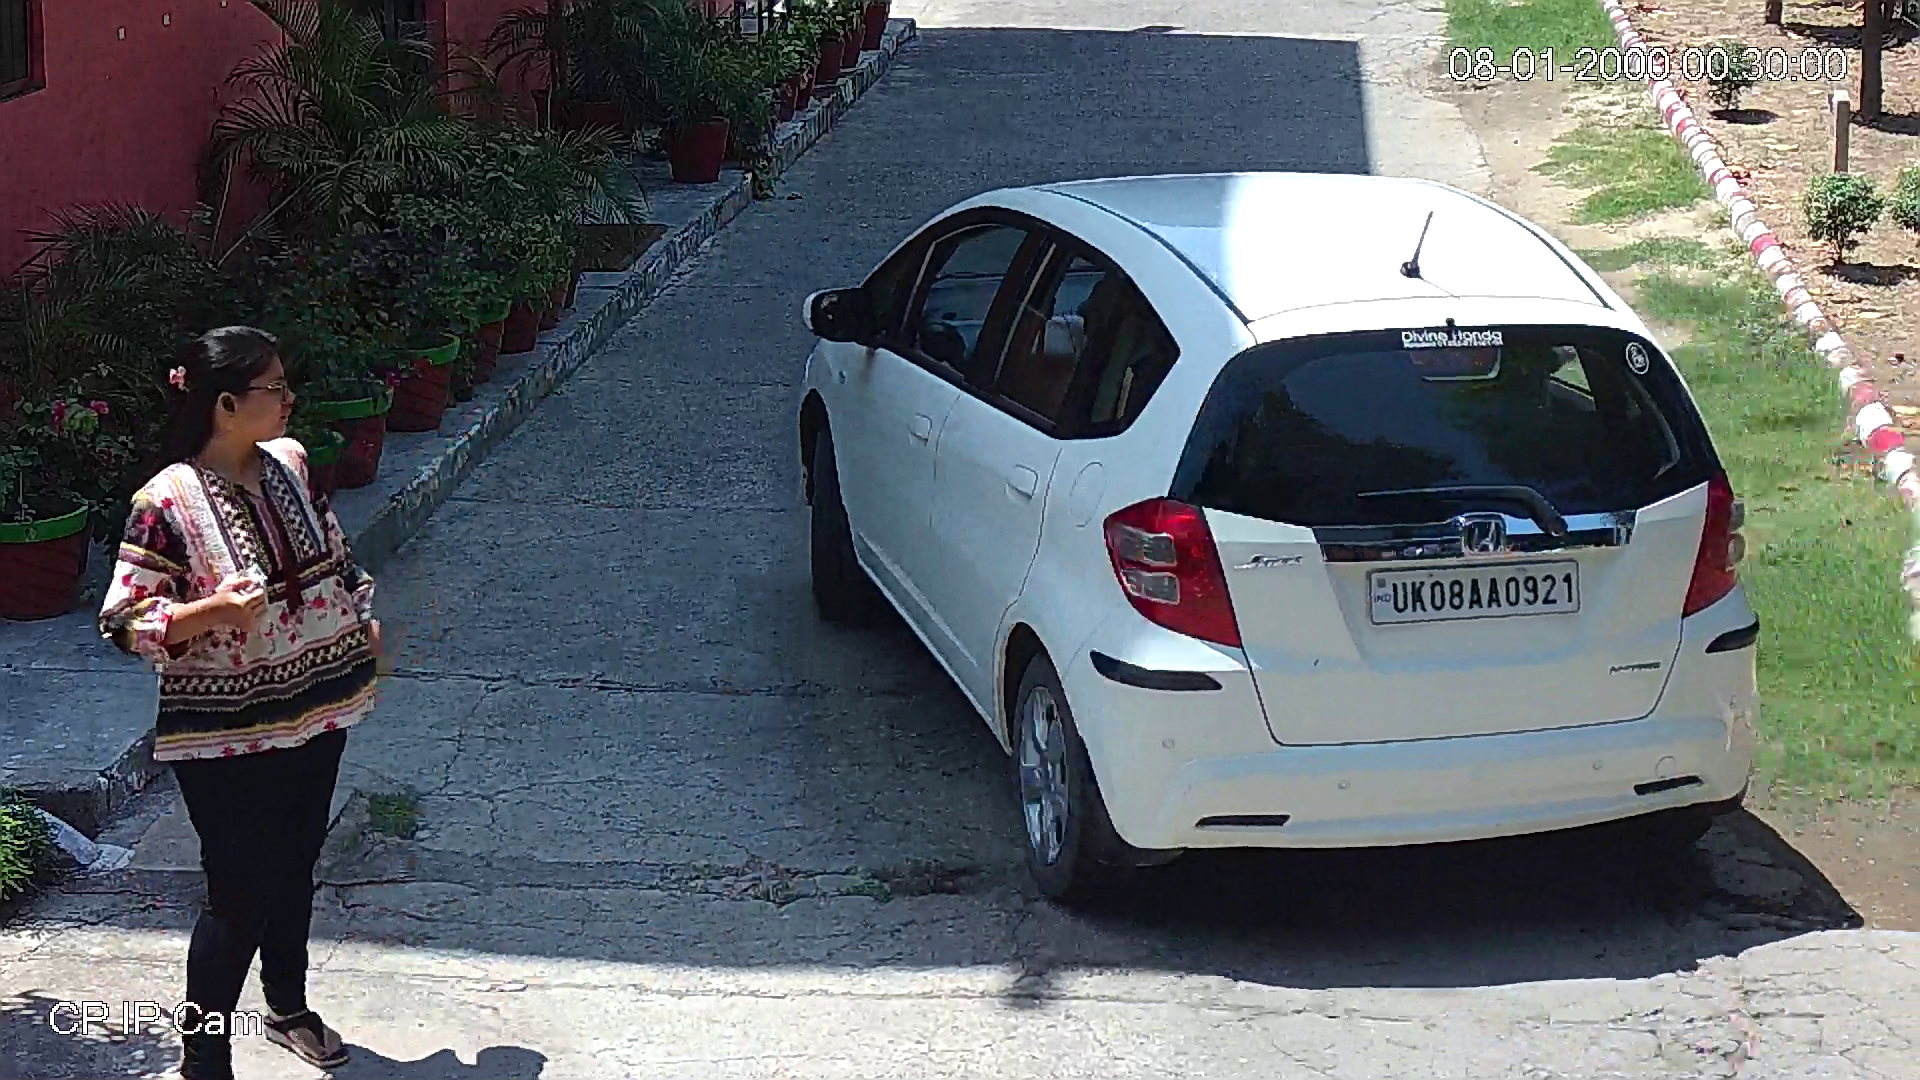plate: (1370, 563, 1580, 626)
